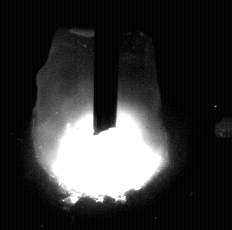arame: (95, 0, 118, 136)
poca: (33, 0, 169, 230)
